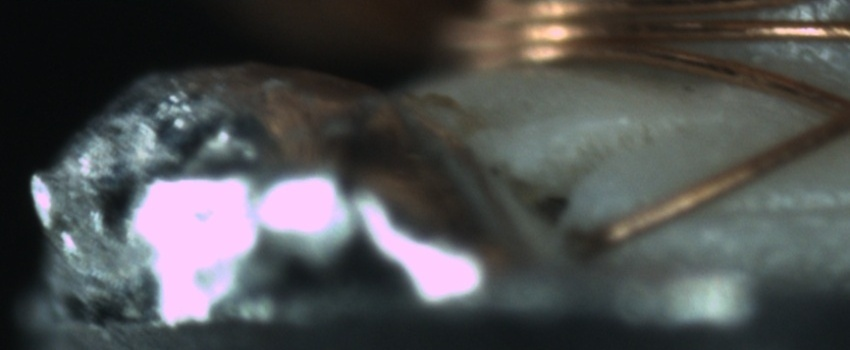CL: (803, 79, 850, 146)
DL: (681, 178, 849, 242)
